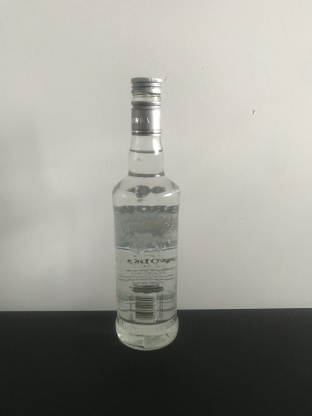nakretka: (129, 75, 163, 137)
